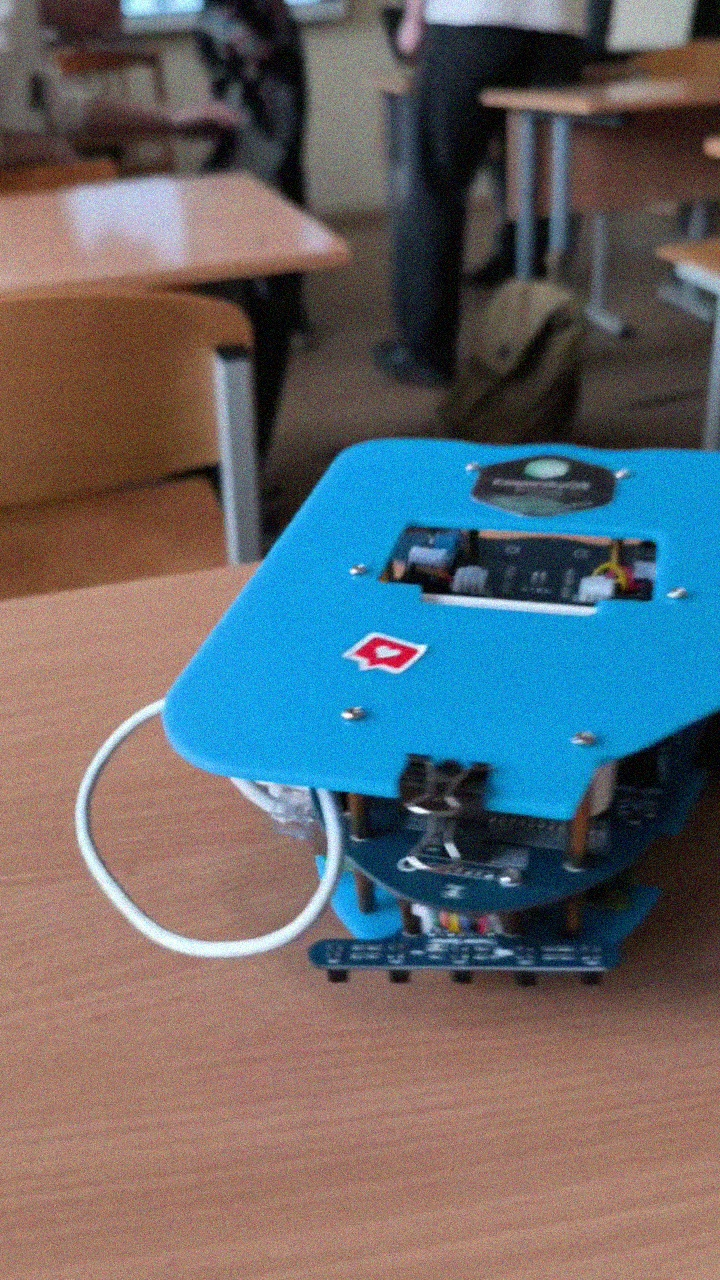robot: (71, 435, 720, 990)
